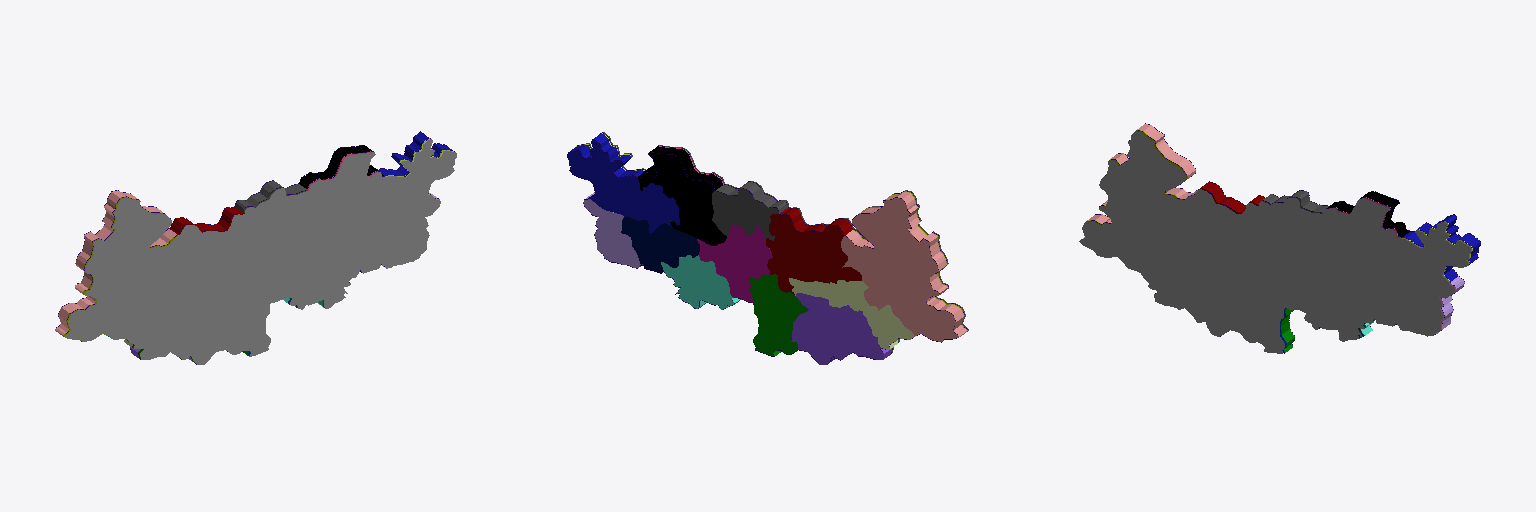
Rendered from deqing10.obj.
3 renders of one model, left to right at view 1: azimuth 30°, elevation 25°; view 2: azimuth 150°, elevation 25°; view 3: azimuth 330°, elevation 25°, orthographic.
Visible parts, largest first — view 1: texture, [number redacted]_bottom, [number redacted]_bottom, [number redacted]_bottom, [number redacted]_bottom, [number redacted]_bottom; view 2: [number redacted]_bottom, [number redacted]_bottom, [number redacted]_bottom, [number redacted]_bottom, [number redacted]_bottom, [number redacted]_bottom, [number redacted]_bottom, [number redacted]_bottom, [number redacted]_bottom, [number redacted]_bottom, [number redacted]_bottom, [number redacted]_bottom (+1 smaller); view 3: texture, [number redacted]_bottom, [number redacted]_bottom, [number redacted]_bottom.
Part boxes in pixels (x1,y1,x2,y2): texture: (65,139,456,364); [number redacted]_bottom: (55,190,176,335); [number redacted]_bottom: (299,145,383,188); [number redacted]_bottom: (378,132,452,193); [number redacted]_bottom: (235,181,306,211); [number redacted]_bottom: (169,207,242,233); [number redacted]_bottom: (841,192,966,341); [number redacted]_bottom: (766,208,861,294); [number redacted]_bottom: (567,133,679,233); [number redacted]_bottom: (791,293,891,364); [number redacted]_bottom: (638,146,726,245); [number redacted]_bottom: (697,224,772,302); [number redacted]_bottom: (748,273,808,355); [number redacted]_bottom: (789,278,915,348); [number redacted]_bottom: (712,182,786,240); [number redacted]_bottom: (621,217,699,273); [number redacted]_bottom: (661,255,741,309); [number redacted]_bottom: (583,194,642,267); texture: (1079,131,1470,353); [number redacted]_bottom: (1083,124,1197,238); [number redacted]_bottom: (1403,215,1480,281); [number redacted]_bottom: (1328,191,1410,236).
Bounding box in the file's own units: 84.24 × 39.01 × 3.69.